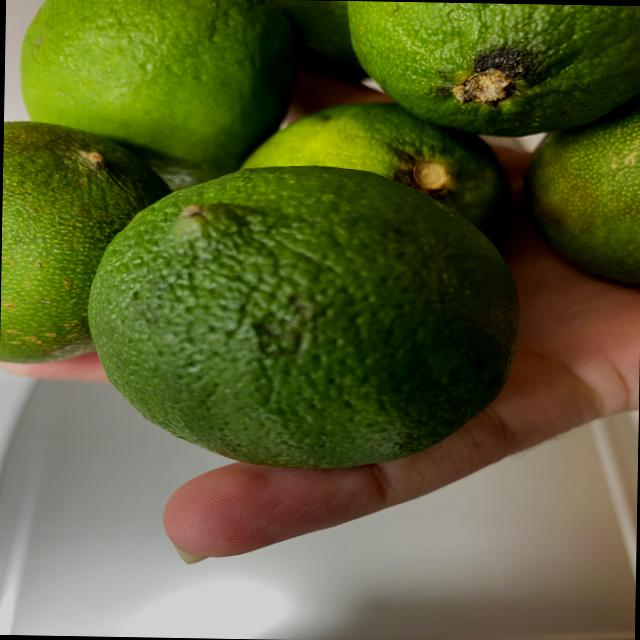lemon: (0, 0, 639, 466)
